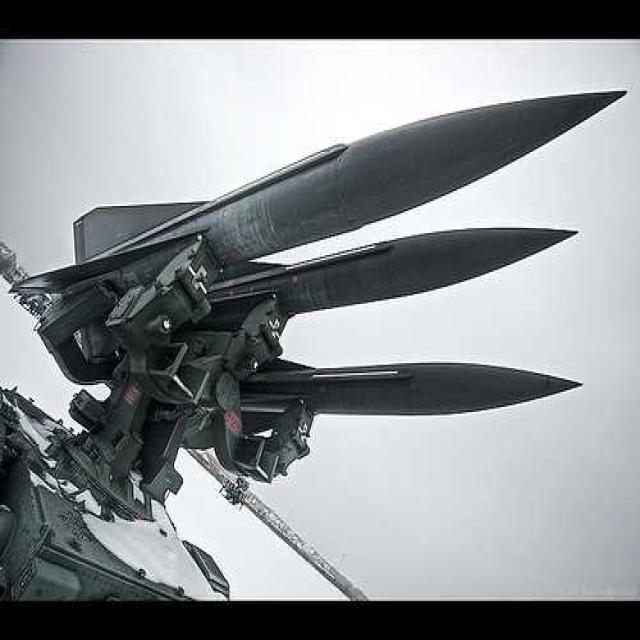missile: (19, 88, 626, 296), (220, 224, 584, 311), (247, 356, 583, 423)
